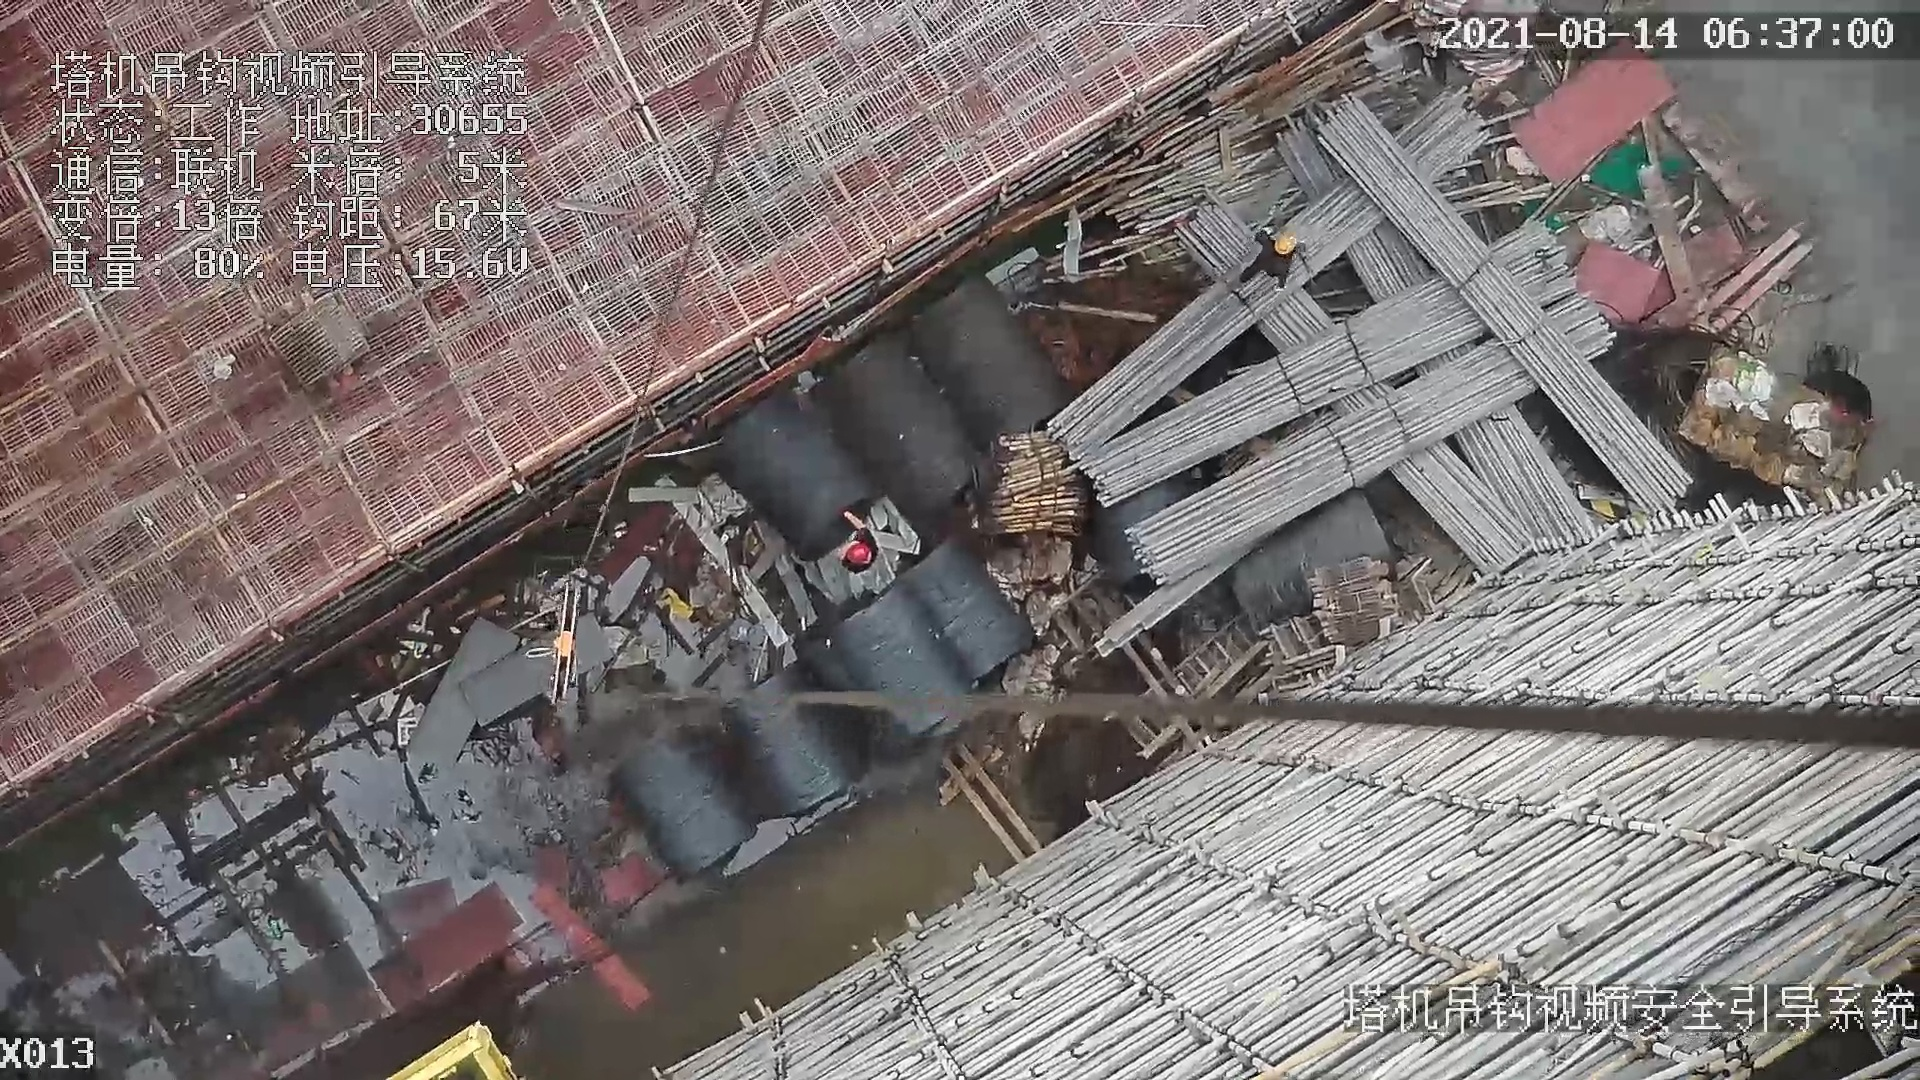helmet: (845, 542, 873, 570), (1274, 230, 1300, 259)
hook: (526, 578, 579, 704)
person: (1228, 221, 1297, 296), (837, 504, 886, 577)
scaffold: (1103, 76, 1688, 572), (960, 410, 1101, 545)
